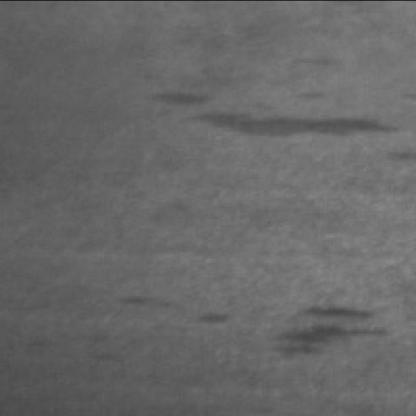inclusion: (146, 75, 410, 137), (268, 287, 400, 362), (112, 281, 244, 331)
